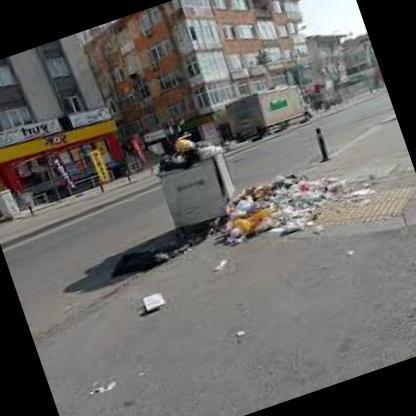Garbage: (200, 158, 349, 262), (212, 183, 312, 248), (100, 226, 206, 281), (148, 122, 210, 174), (128, 289, 164, 323)
